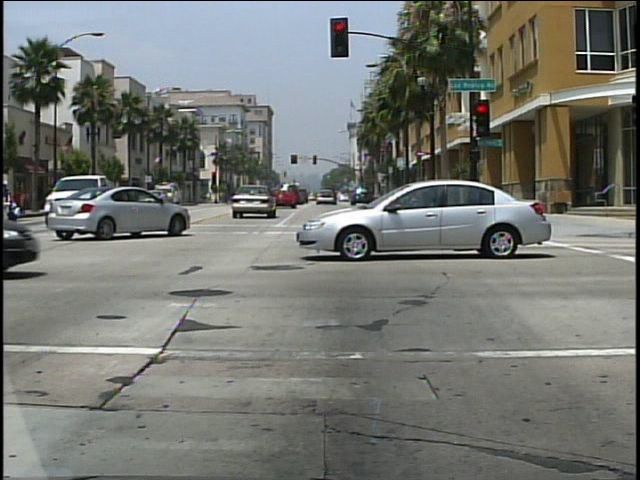person: (3, 174, 25, 232)
